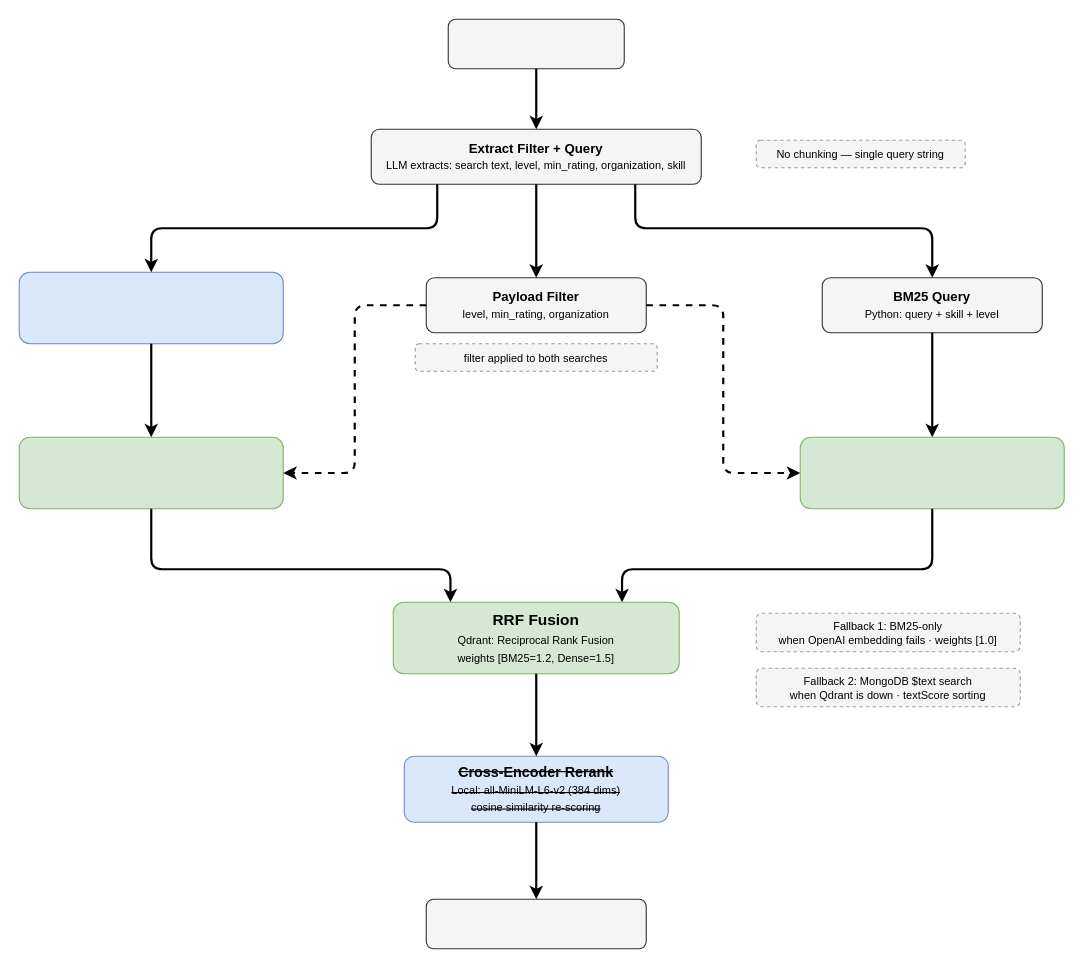
This 1084x968 diagram has some shape labels left out. Here are the shapes that lost their labels. From the top down, the centre of each, then its label:
At pixel 535 43: "User Query".
At pixel 150 307: "Tokenize + Embedding OpenAI BPE tokenizer text-embedding-3-small → 1,536 dims".
At pixel 150 472: "Dense Search Qdrant HNSW cosine weight 1.5 · limit 30".
At pixel 931 472: "BM25 Tokenize + Search Qdrant built-in tokenizer + IDF weight 1.2 · limit 30".
At pixel 535 923: "Agent Context formatted course list".
